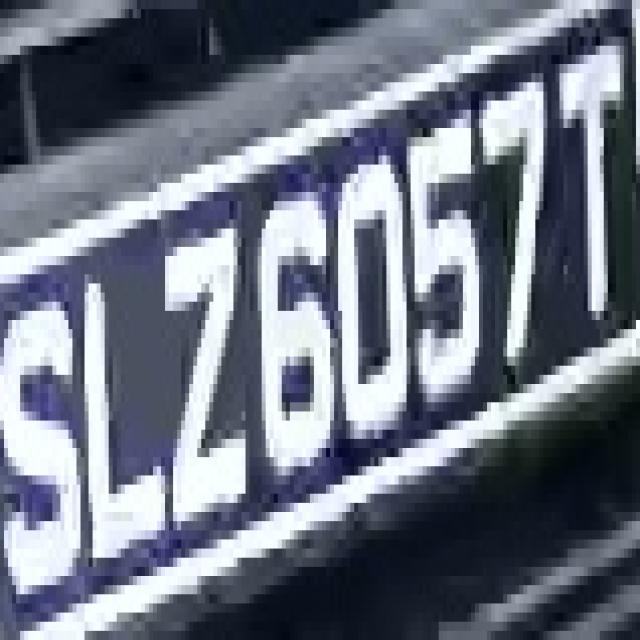0: (322, 137, 411, 448)
5: (395, 91, 499, 412)
6: (242, 183, 334, 494)
7: (471, 46, 543, 402)
L: (73, 265, 177, 594)
S: (12, 247, 81, 631)
T: (547, 36, 640, 348)
Z: (153, 201, 250, 512)
